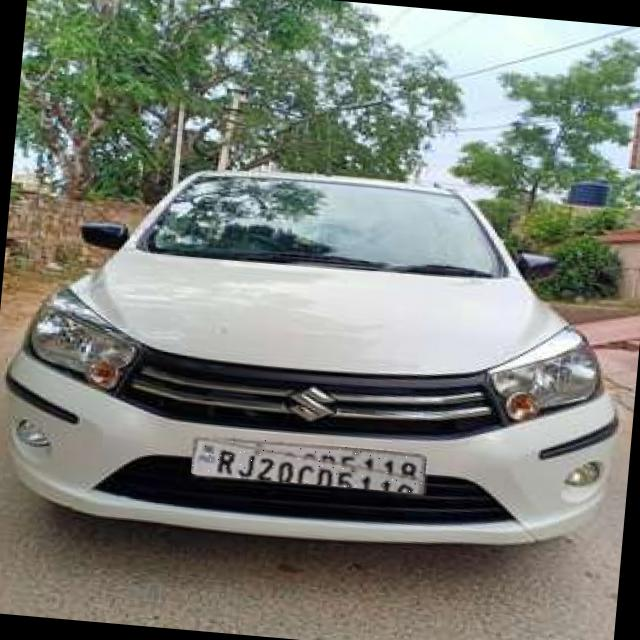Plate: (191, 435, 426, 495)
